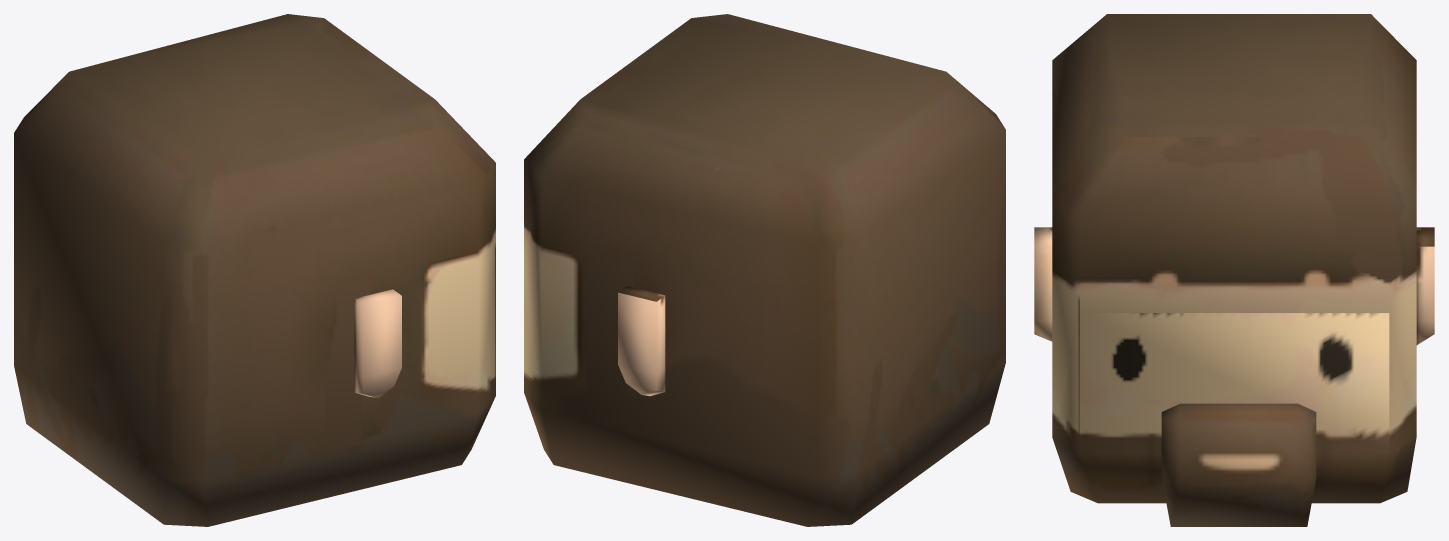
The model's file is hunter1.glb.
3 renders of one model, left to right at view 1: azimuth 30°, elevation 25°; view 2: azimuth 150°, elevation 25°; view 3: azimuth 270°, elevation 25°, orthographic. The views are drawn at different scales.
Parts seen in each view (by area): view 1: 1.004, 3.004; view 2: 1.004, 4.004; view 3: 1.004, 2.004, 4.004, 3.004.
Part boxes in pixels (<box>): 1.004: <box>14,14,495,526</box>; 3.004: <box>354,289,401,397</box>; 1.004: <box>524,14,1005,526</box>; 4.004: <box>618,286,665,396</box>; 1.004: <box>1052,14,1416,503</box>; 2.004: <box>1161,403,1316,526</box>; 4.004: <box>1416,227,1434,345</box>; 3.004: <box>1034,227,1052,341</box>.
Size of the model in its own units: 0.092 by 0.0861 by 0.0861.
Materials: 1 (1 with a texture image).
